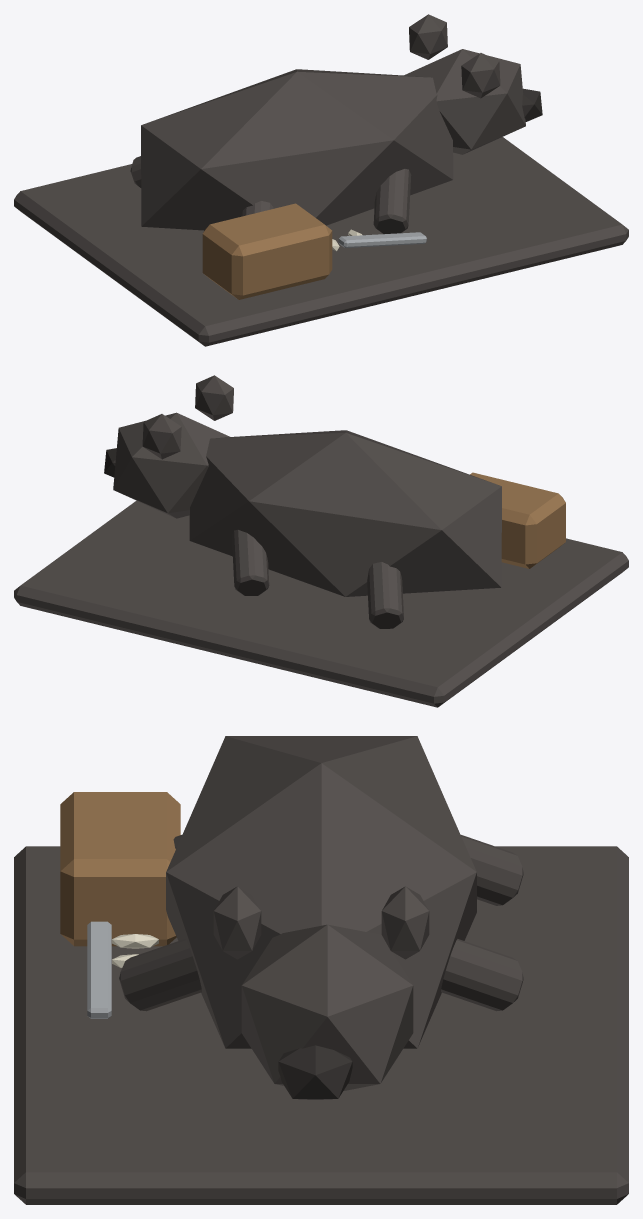
The model's file is bear_den_harvest.glb.
3 views of the same model, one above another, from view 1: azimuth 30°, elevation 25°; view 2: azimuth 150°, elevation 25°; view 3: azimuth 270°, elevation 25° (orthographic). The views are drawn at different scales.
Size of the model in its own units: 2.66 by 0.9556 by 2.05.
